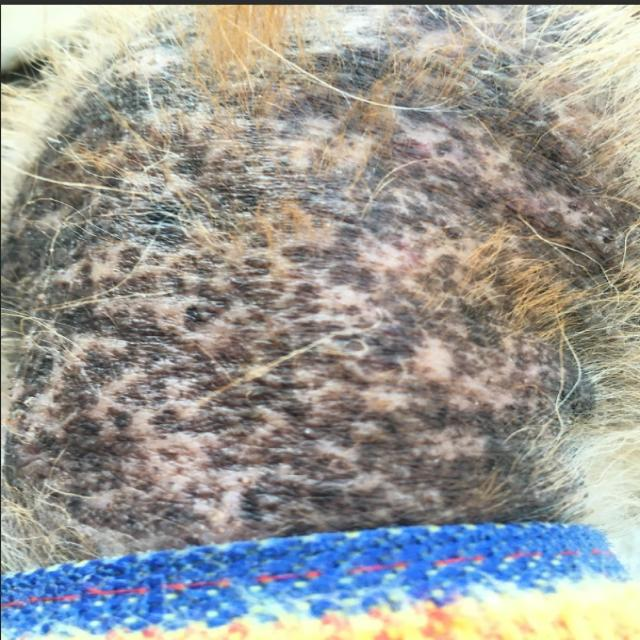demodicosis: (32, 54, 554, 508)
